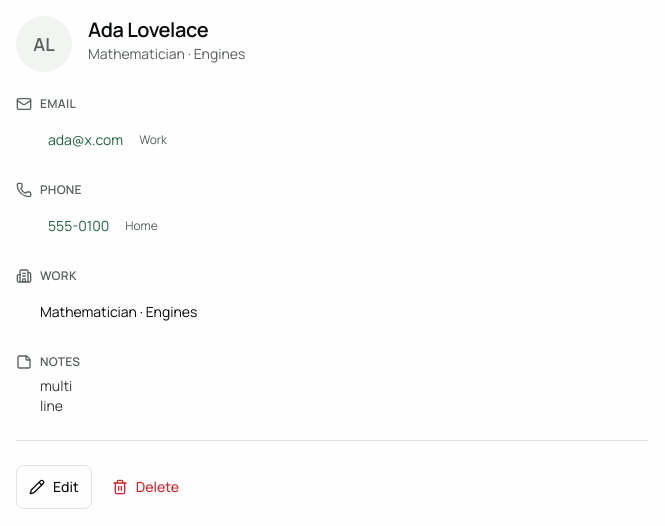
Test: ContactDetailRoute wrapper › backs out of a delete confirmation
Click the button "Delete".
click(145, 487)  # box [100, 465, 191, 509]
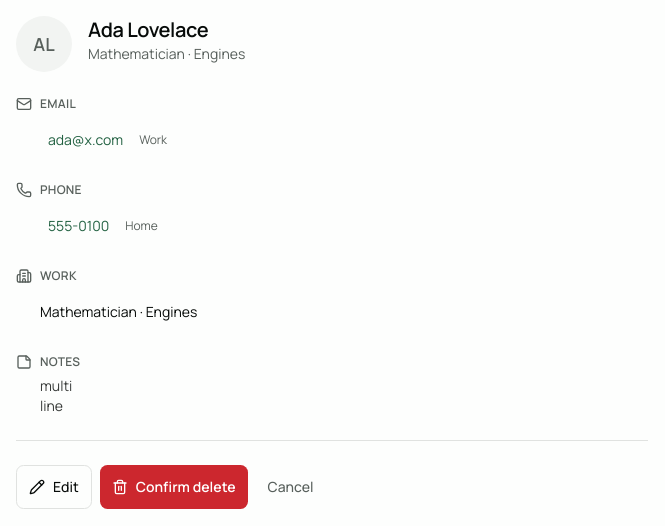
Click the button "Cancel".
click(290, 487)  # box [256, 465, 325, 509]
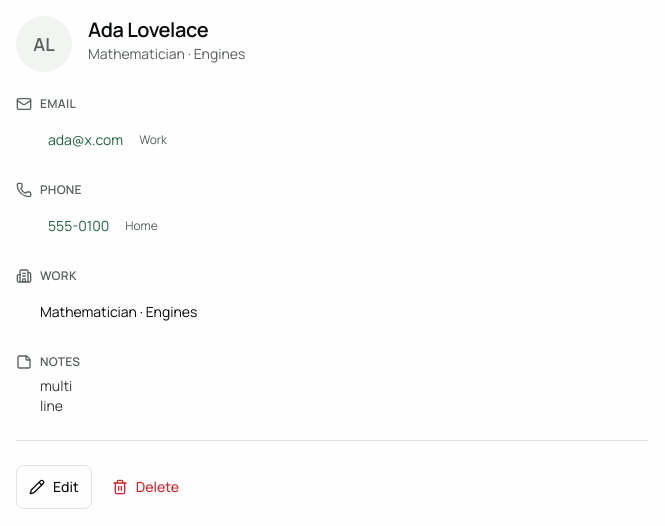
expect the button "Delete" is shown: met, box [100, 465, 191, 509]
expect the button "Confirm delete" is gone: met
